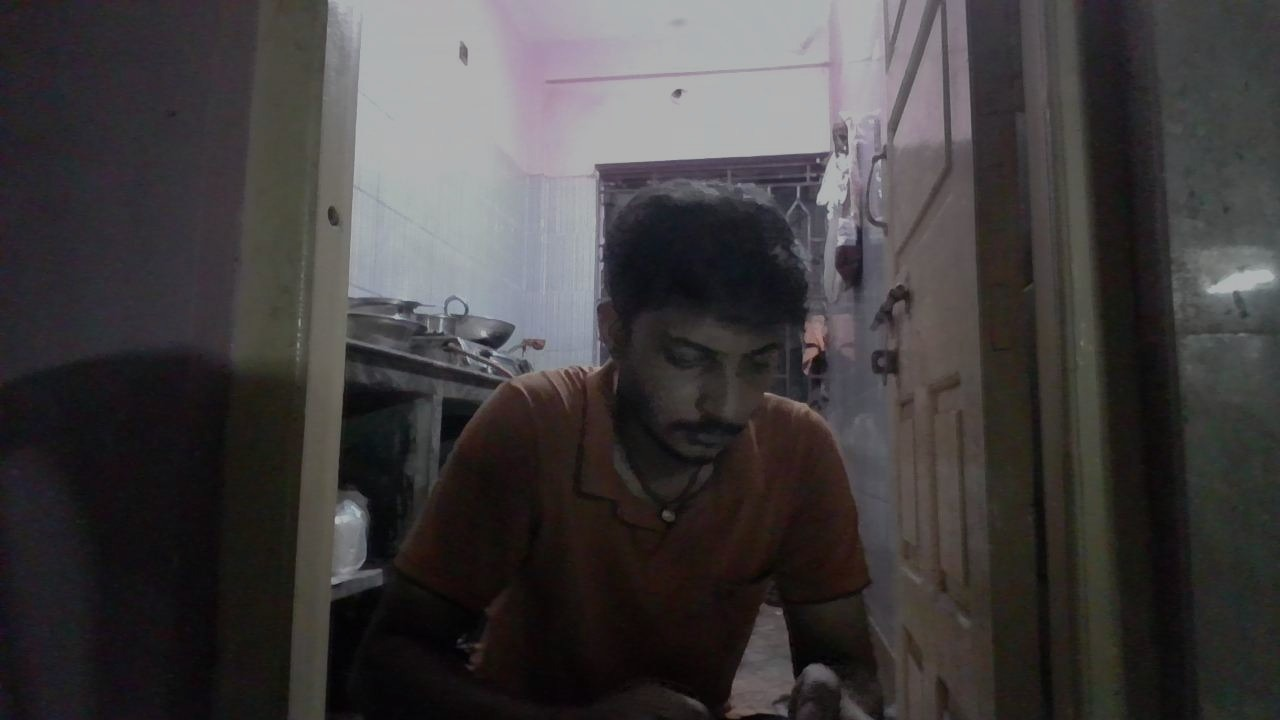red_box: (717, 411, 826, 561), (805, 460, 864, 590), (583, 416, 636, 510)
